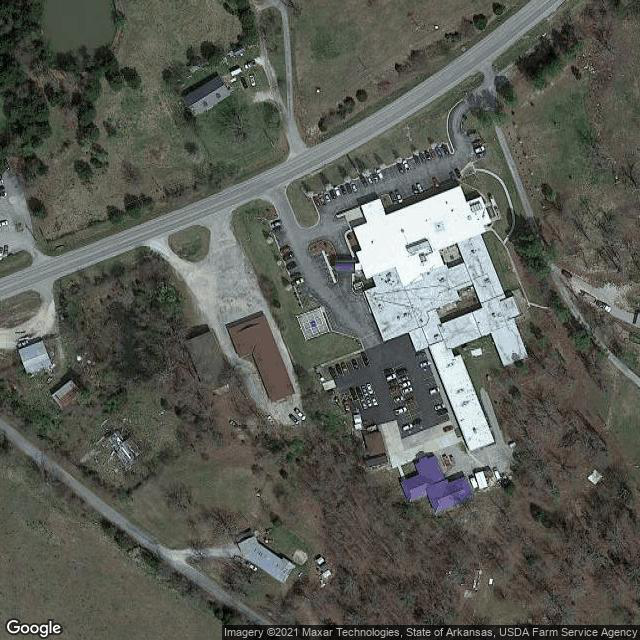Helipad: (297, 307, 331, 339)
